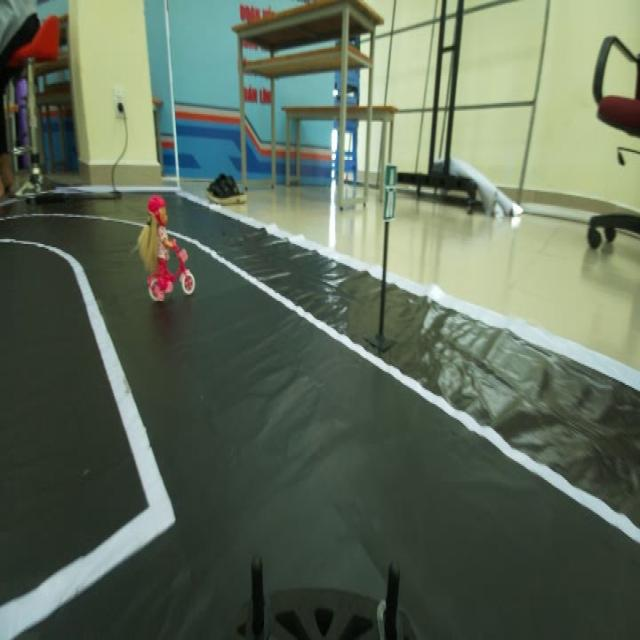highway_entry: (376, 162, 407, 232)
pedestrian: (131, 201, 201, 298)
